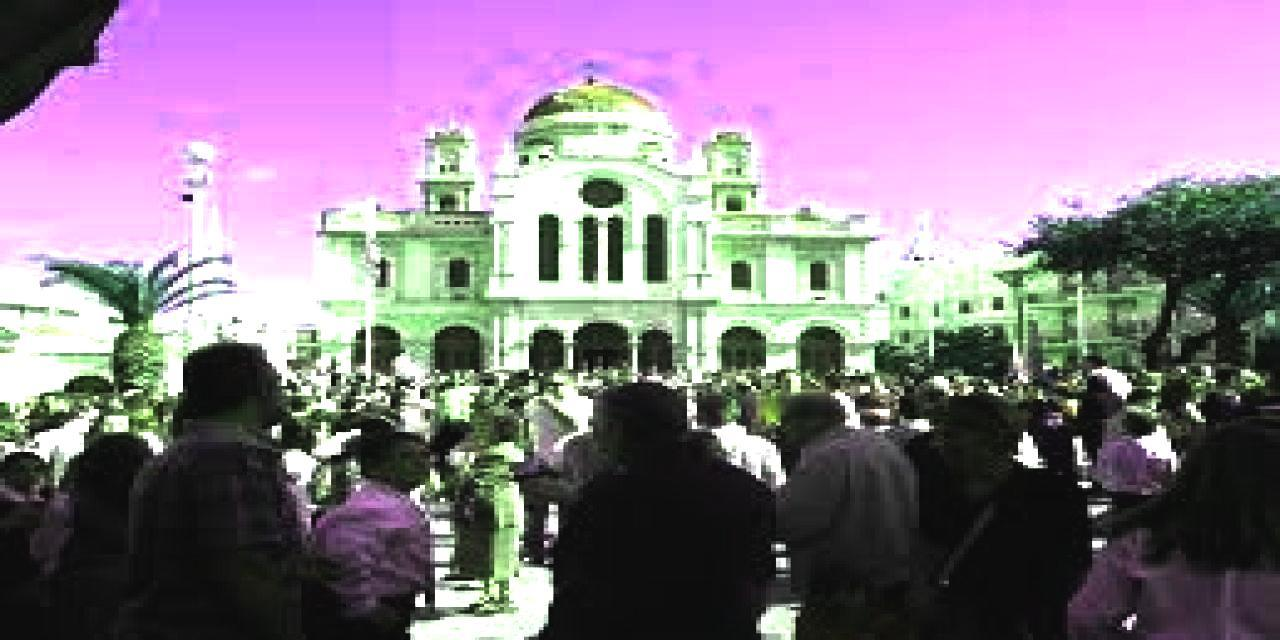Agios Minas: (315, 57, 895, 381)
